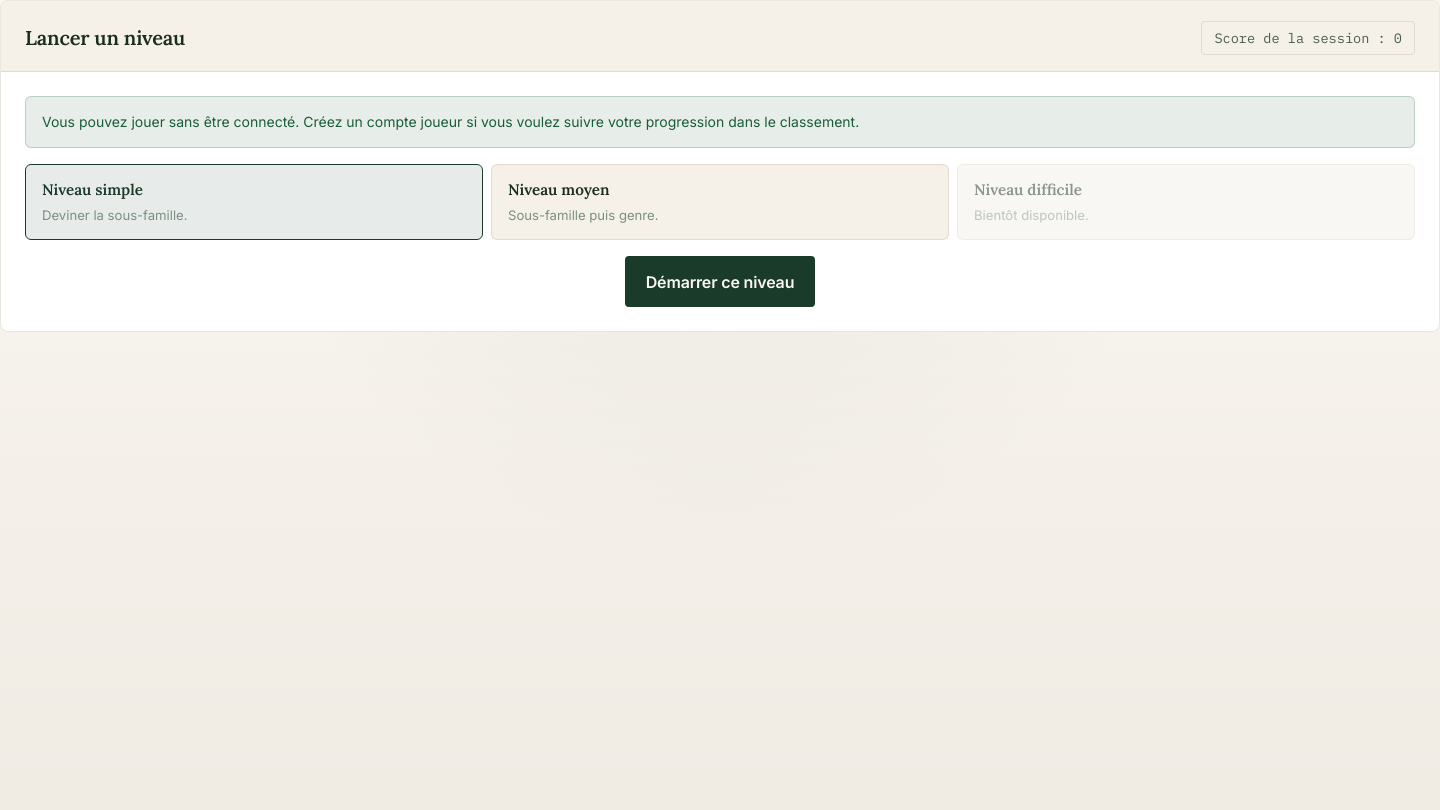
Test: GamePage › handles medium two-step validation and genus failure feedback
Click the button "Niveau moyen Sous-famille puis genre." at (559, 189), box [491,164,949,240]
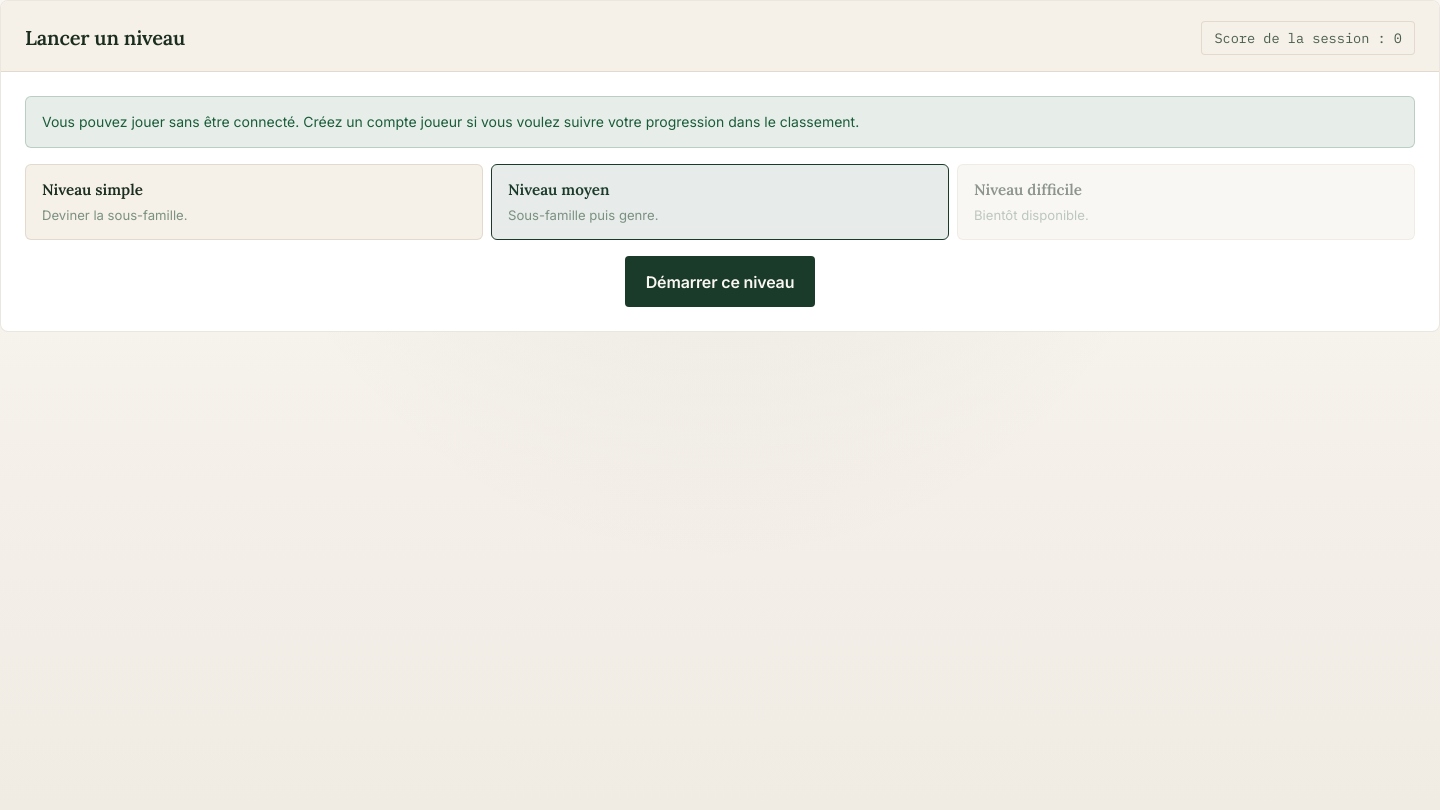
Click the button "Démarrer ce niveau" at (720, 282), box [625,256,815,307]
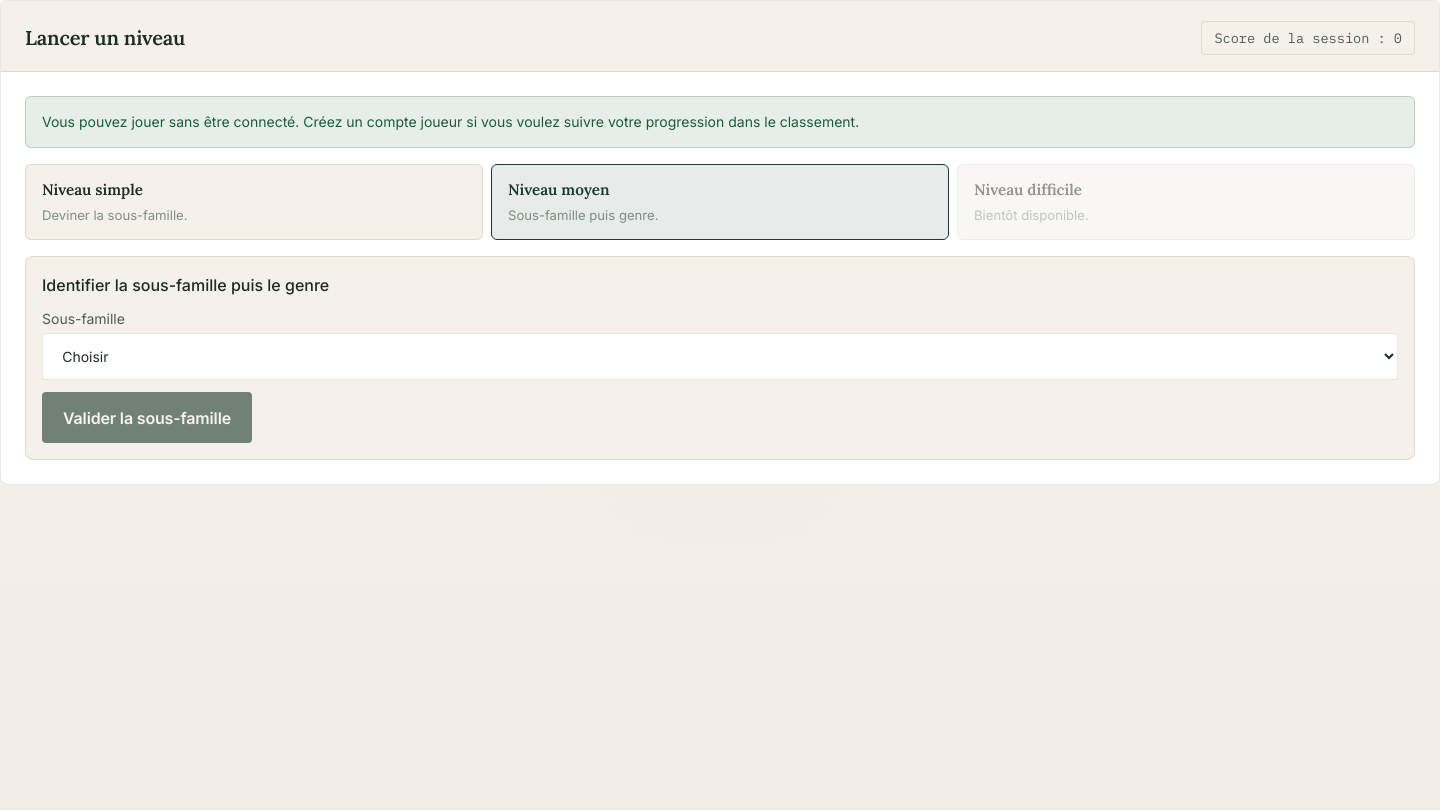
Expected: the text "Identifier la sous-famille puis le genre" is shown, [42,275,329,295]
Select "Formicinae" in the dropdown labelled "Sous-famille" at (720, 357), box [42,333,1398,380]
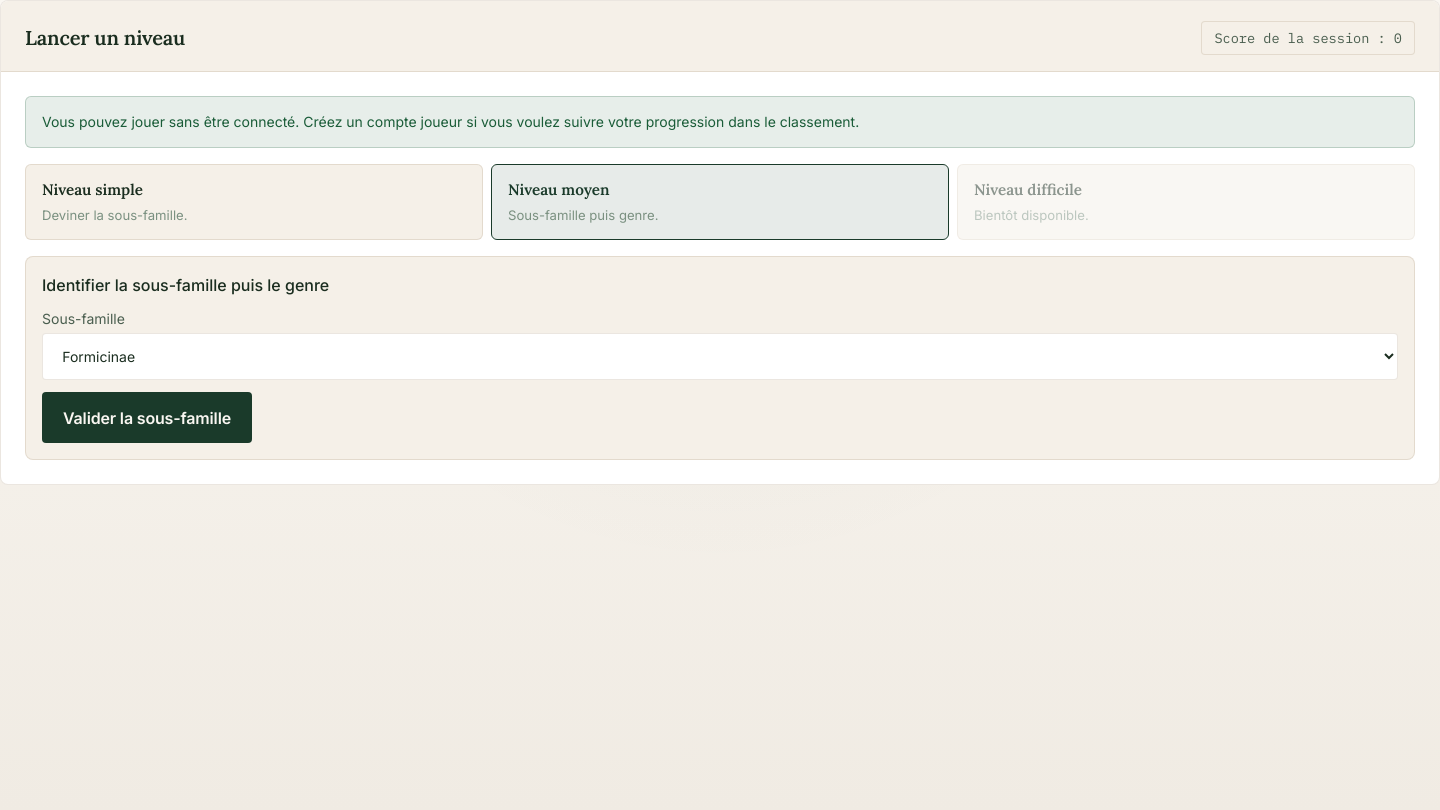
Click the button "Valider la sous-famille" at (147, 417), box [42,392,252,443]
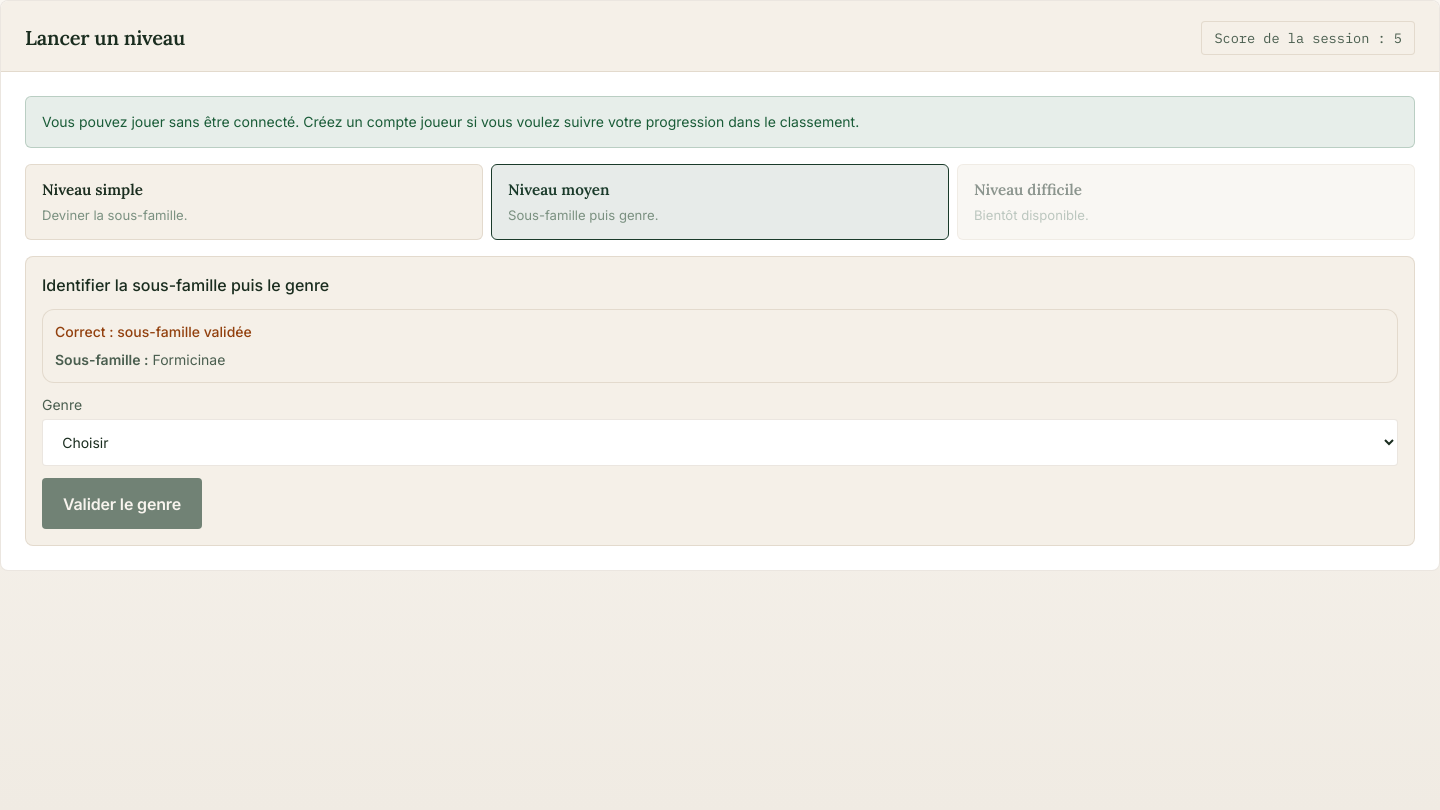
Expected: the text "Correct : sous-famille validée" is shown, [55,323,252,340]
Select "Camponotus" in the dropdown labelled "Genre" at (720, 443), box [42,419,1398,466]
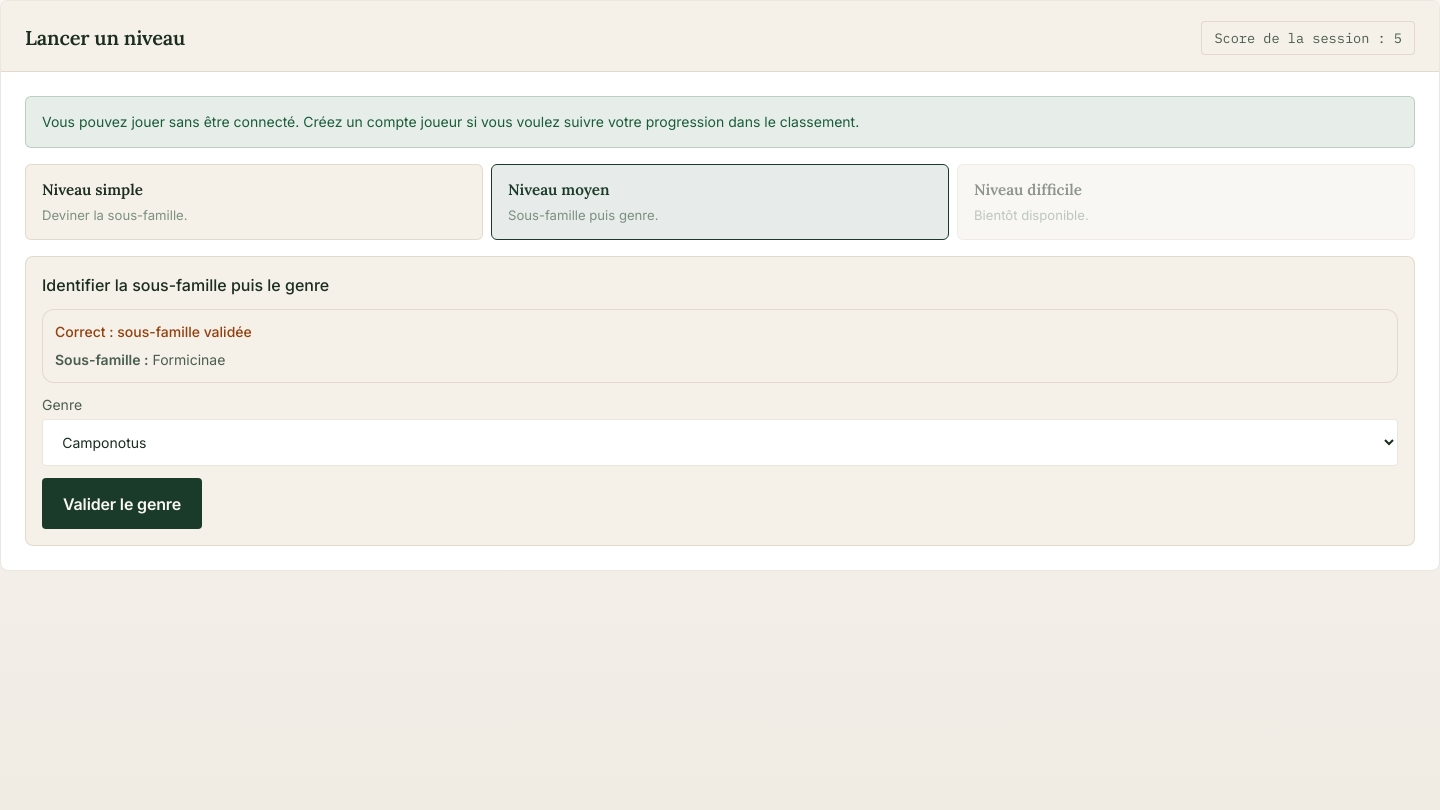
Click the button "Valider le genre" at (122, 503), box [42,478,202,529]
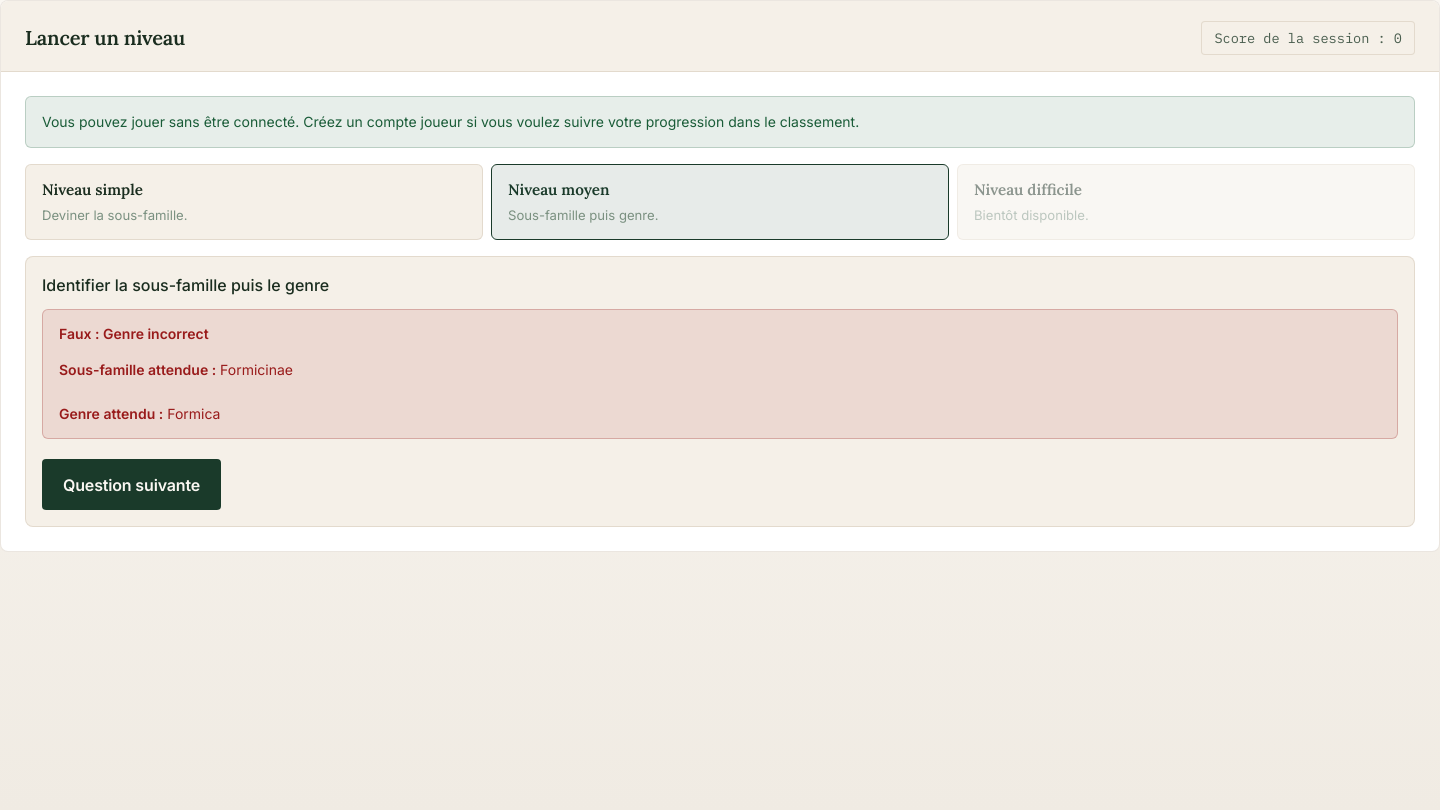
Expected: the text "Faux : Genre incorrect" is shown, [59,325,209,342]
Expected: the text "Score de la session : 0" is shown, [1201,21,1415,55]
